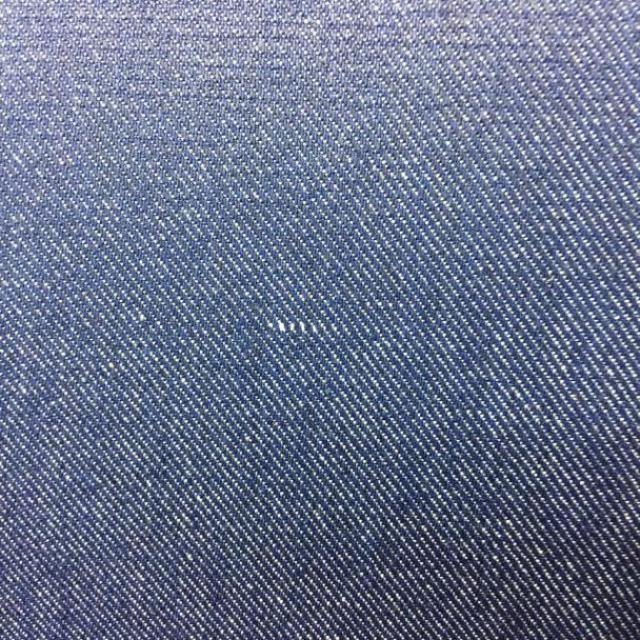Knot: (266, 319, 337, 337)
